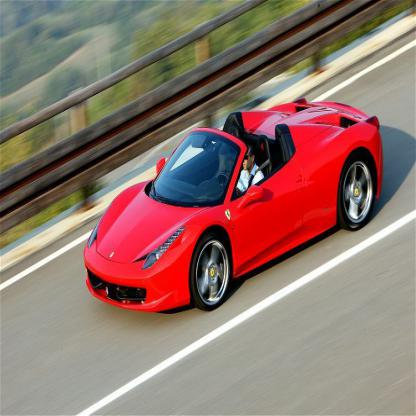Vehicle: (84, 101, 382, 310)
